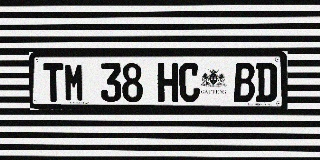3: (101, 63, 121, 102)
8: (122, 63, 143, 102)
B: (234, 63, 255, 102)
C: (179, 63, 200, 102)
D: (255, 63, 277, 102)
H: (158, 63, 178, 102)
M: (64, 63, 85, 102)
T: (43, 63, 64, 102)
